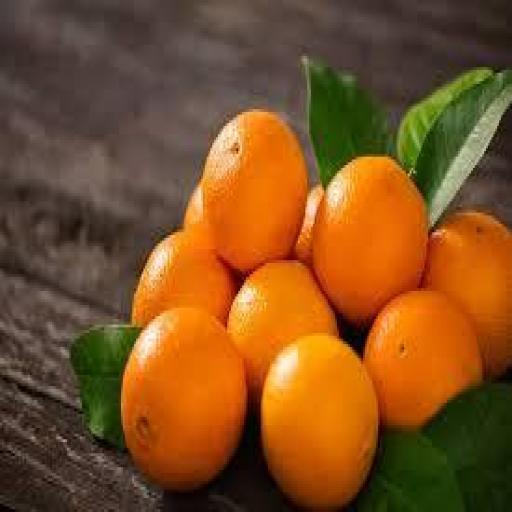orange: (122, 308, 245, 489), (261, 336, 377, 509), (313, 157, 428, 324), (202, 110, 307, 271), (364, 291, 482, 428)
